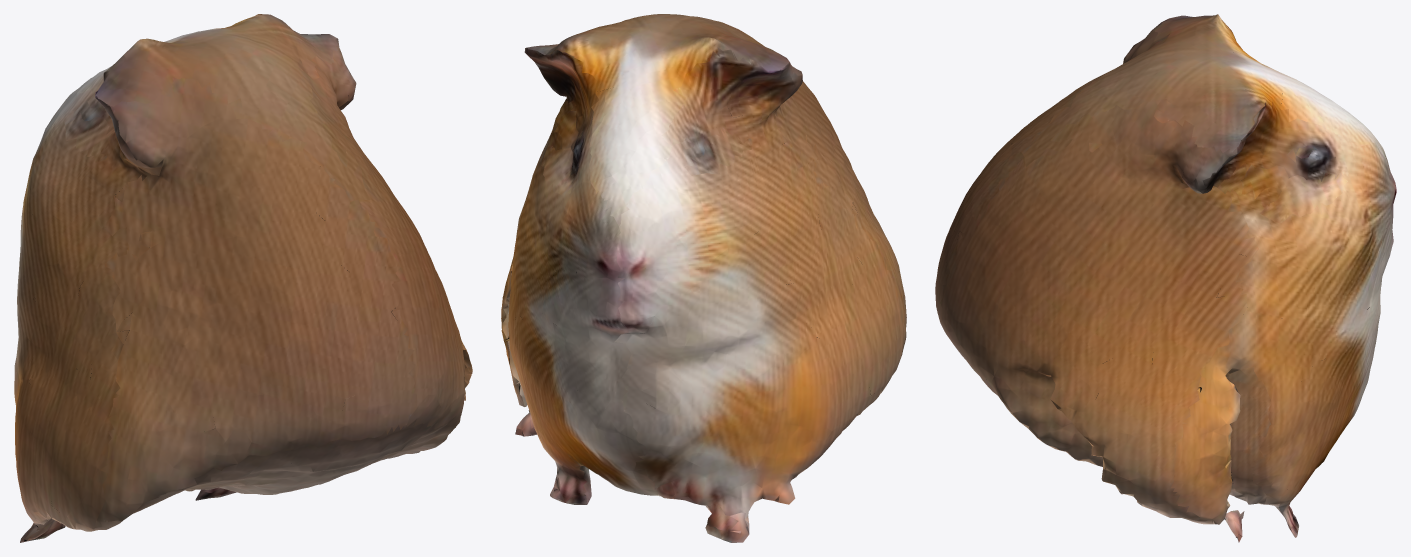
File: 13_52_41_21_guinea-pig-figurine-under-glass-dome.glb
3 views of the same model, side by side, from view 1: azimuth 30°, elevation 25°; view 2: azimuth 150°, elevation 25°; view 3: azimuth 270°, elevation 25° (orthographic). The views are drawn at different scales.
Parts seen in each view (by area): view 1: world; view 2: world; view 3: world.
Part boxes in pixels (bbox=[...]): world: bbox=[14, 14, 472, 542]; world: bbox=[501, 14, 906, 542]; world: bbox=[935, 14, 1396, 542].
Size of the model in its own units: 0.6867 by 0.8589 by 0.7743.
Materials: 1 (1 with a texture image).
